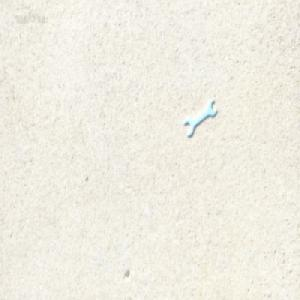Wrench: (184, 101, 215, 137)
